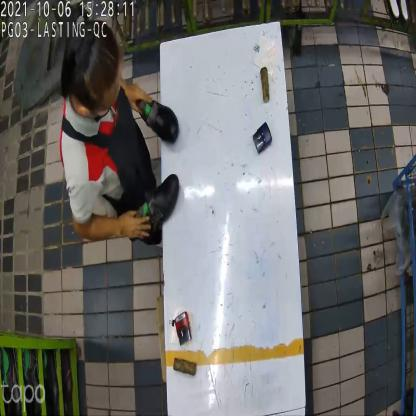shoes: (131, 91, 180, 245)
stamp: (173, 312, 195, 344), (254, 120, 272, 154)
